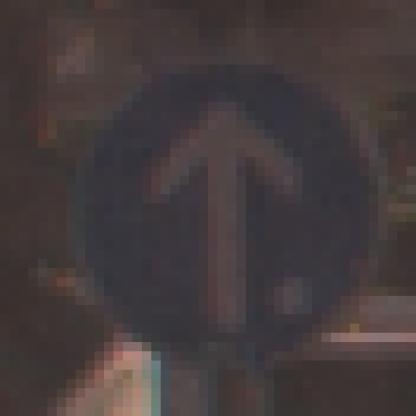AheadOnly: (49, 47, 361, 362)
